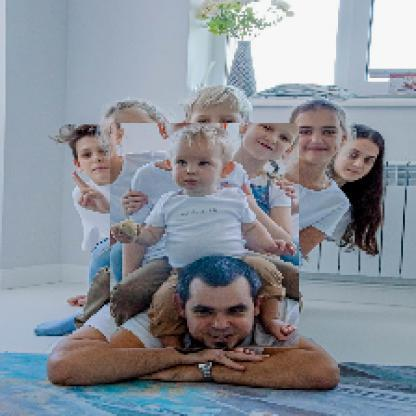child: (111, 124, 301, 350), (106, 97, 180, 238)
